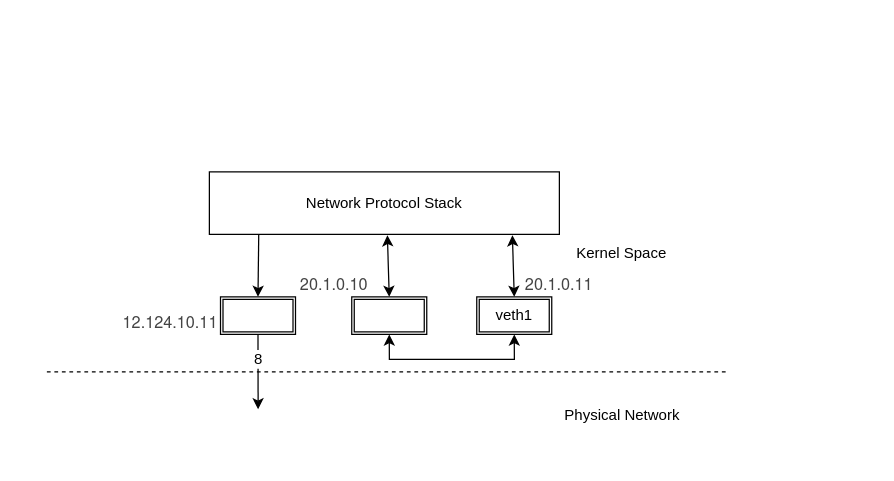
Image size: 894x481. Some labels were removed from this diagram. Each missing label, with the centre of its shape:
"eth0" goes at pixel 257 315.
"veth0" goes at pixel 388 315.
